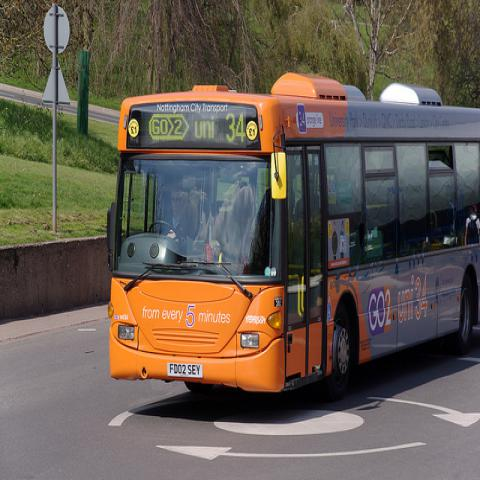bus: (109, 78, 480, 405)
